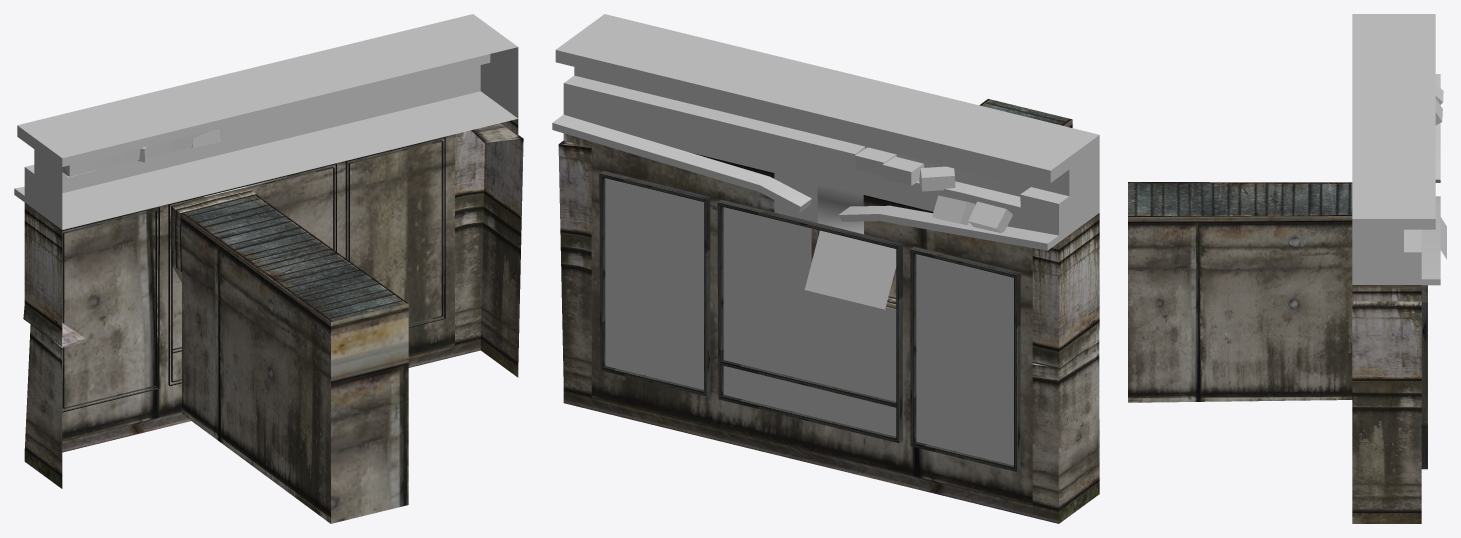
File: Store_front_1_B.fbx
The picture shows the model from 3 angles, left to right: view 1: azimuth 30°, elevation 25°; view 2: azimuth 150°, elevation 25°; view 3: azimuth 270°, elevation 25°; orthographic projection. The views are drawn at different scales.
Visible parts, largest first — view 1: Store_front_1_B; view 2: Store_front_1_B; view 3: Store_front_1_B.
Boxes of the visible parts, <box> form: Store_front_1_B: <box>14,14,523,523</box>; Store_front_1_B: <box>552,14,1099,523</box>; Store_front_1_B: <box>1128,14,1446,523</box>.
Bounding box in the file's own units: 710 × 485 × 460.
